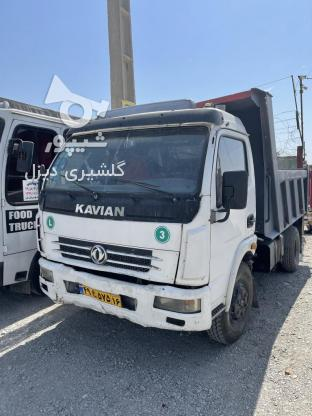car: (78, 284, 121, 307)
